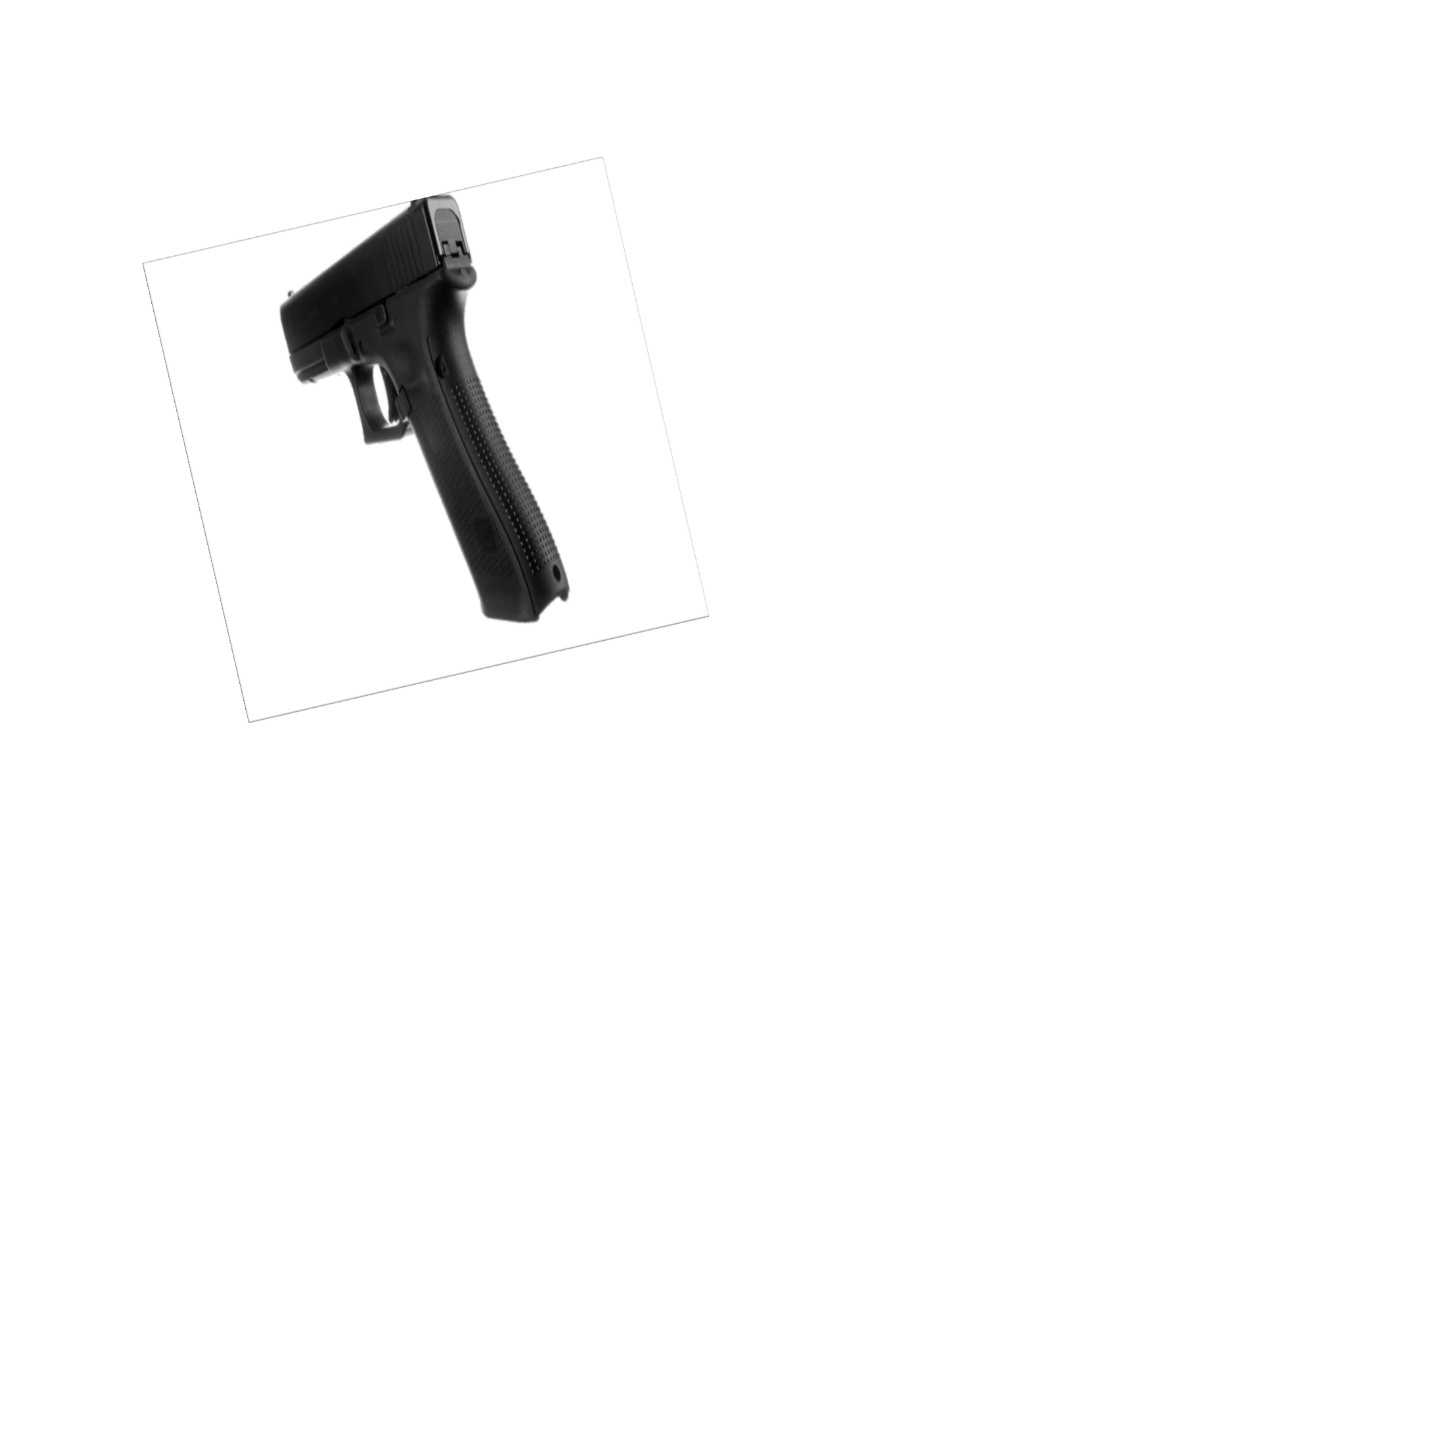gun: (273, 180, 581, 627)
